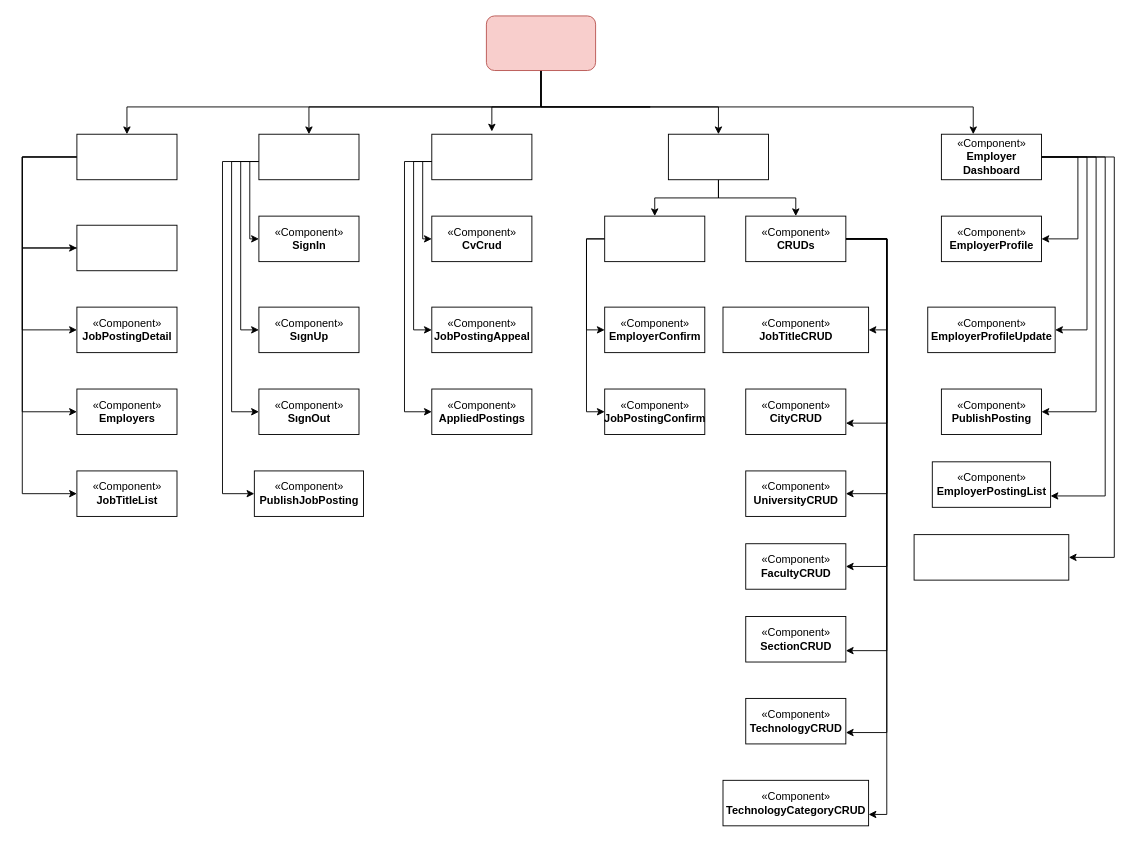
Image size: 1138x842. Some labels were removed from this diagram. Each missing label, with the box of its shape:
APP: (485, 15, 596, 71)
«Component» Candidate Dashboard: (431, 133, 532, 180)
«Component» Confirms: (604, 215, 705, 262)
«Component» Dashboard: (76, 133, 177, 180)
«Component» Employee Dashboard: (667, 133, 768, 180)
«Component» EmployerPostingPassivation: (913, 534, 1069, 580)
«Component» JobPostingList: (76, 224, 177, 271)
«Component» Navi: (258, 133, 359, 180)
